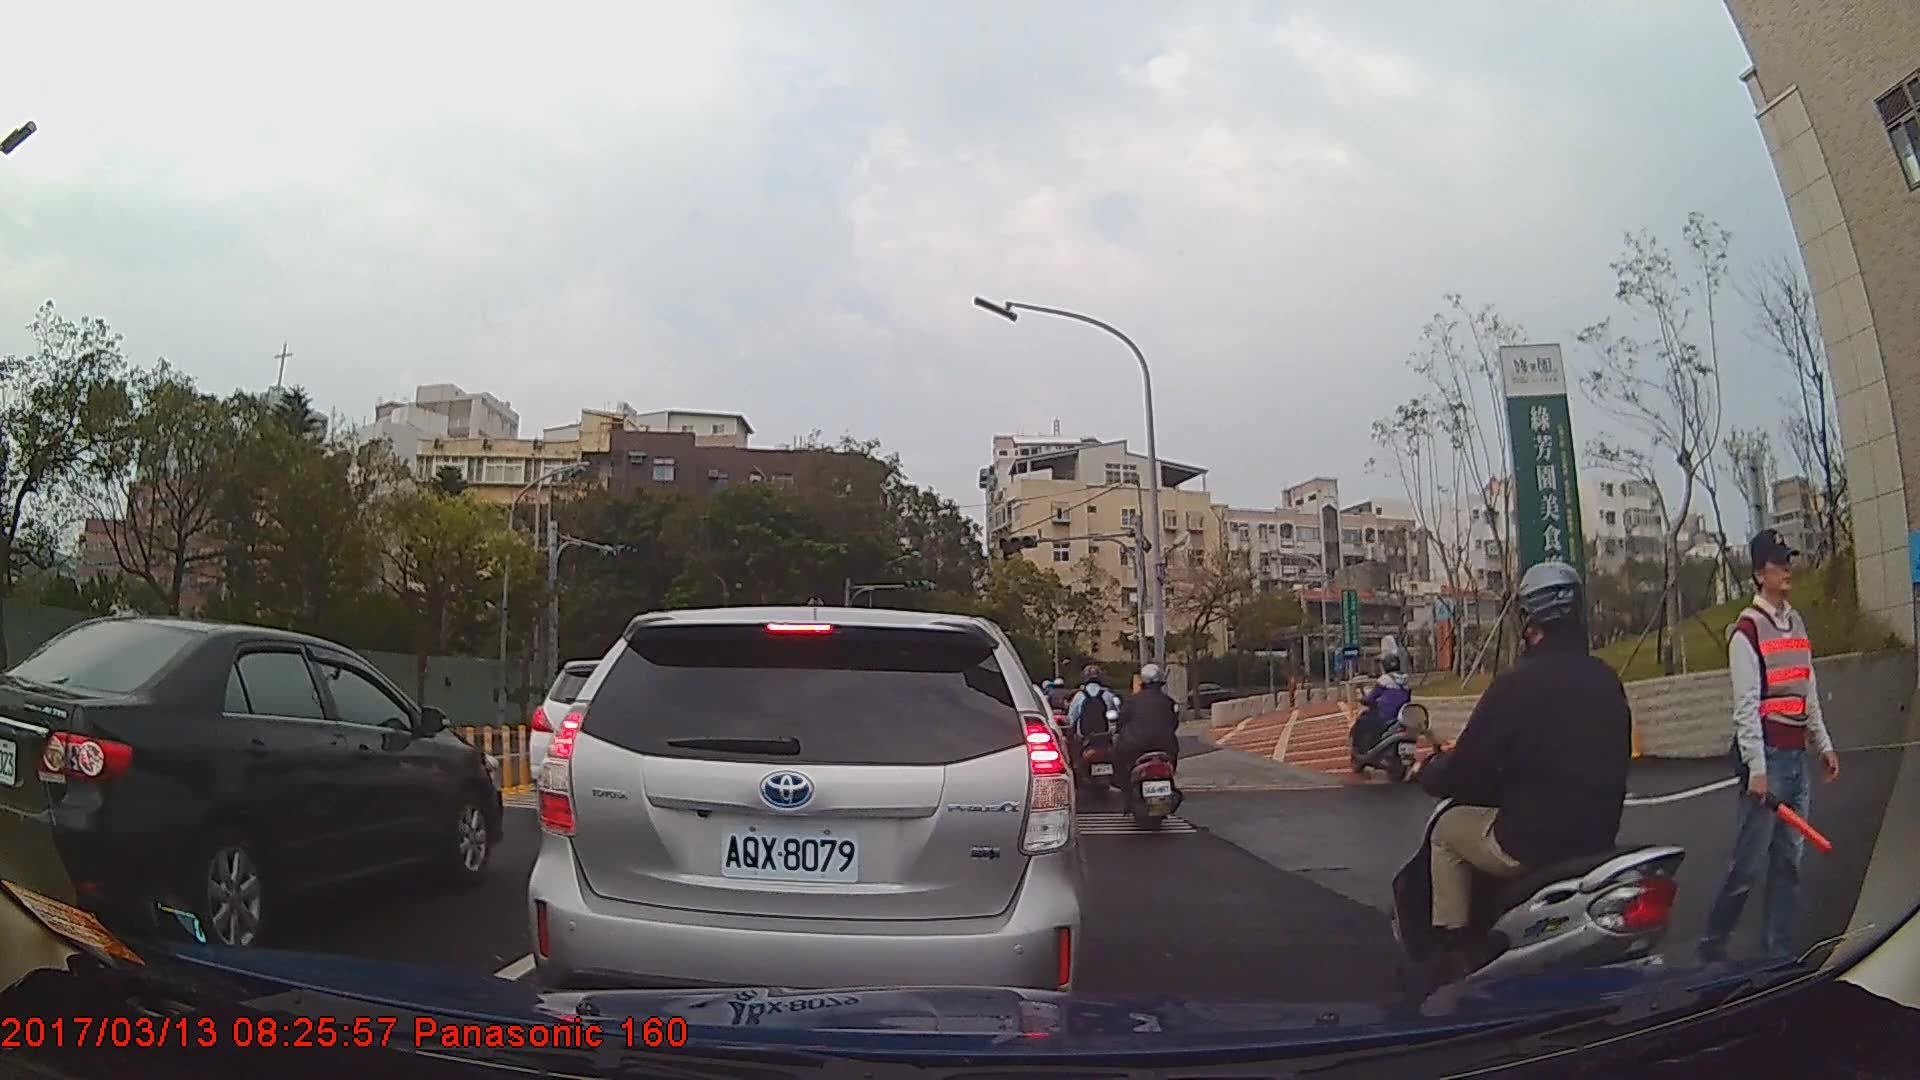pedestrian: (1731, 527, 1849, 972)
rider: (1384, 563, 1694, 1046), (1112, 660, 1185, 835), (1347, 653, 1421, 782), (1065, 662, 1124, 806)
vehicle: (527, 603, 1080, 1031), (0, 614, 502, 950), (1165, 679, 1233, 713)
